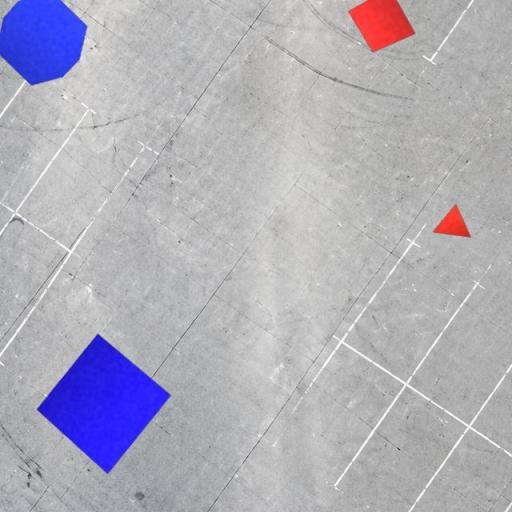BLUE_SQUARE: (37, 333, 172, 474)
RED_SQUARE: (347, 0, 416, 53)
